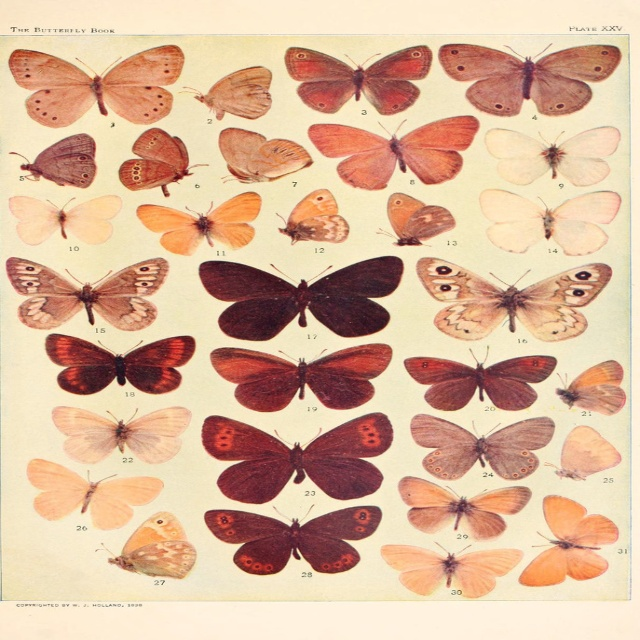Butterfly: (199, 400, 395, 508), (194, 252, 403, 343), (408, 250, 618, 340), (434, 31, 632, 126), (0, 48, 199, 129), (199, 504, 394, 580), (0, 250, 162, 338), (302, 110, 463, 194), (277, 38, 446, 117), (201, 343, 390, 411), (398, 341, 568, 411), (468, 182, 620, 259), (403, 410, 548, 488), (36, 332, 203, 398), (28, 454, 167, 533), (374, 528, 532, 594), (517, 495, 623, 590), (390, 470, 528, 541), (51, 406, 186, 473), (105, 120, 212, 204), (76, 508, 194, 584), (131, 190, 261, 256), (491, 121, 626, 184), (0, 184, 128, 249), (211, 123, 317, 190), (2, 132, 103, 195), (537, 417, 623, 490), (261, 181, 353, 248), (369, 187, 460, 252), (540, 356, 625, 424), (175, 68, 279, 123)
